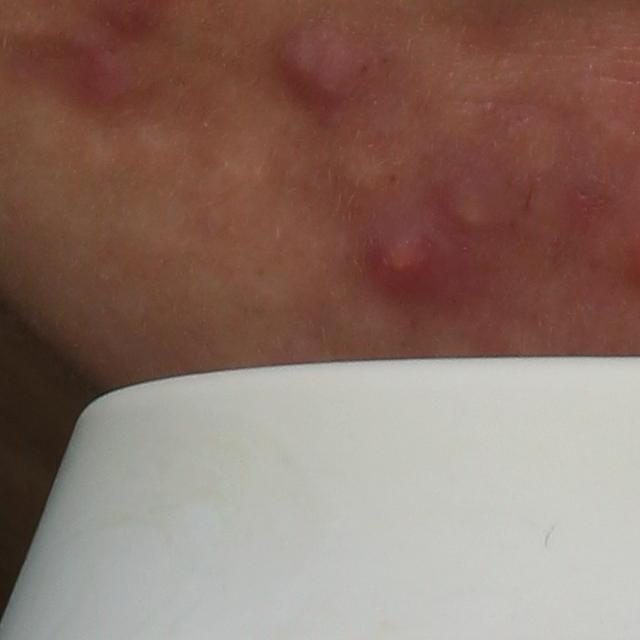papule: (274, 17, 368, 115), (497, 102, 561, 187), (369, 227, 440, 291), (71, 43, 143, 106), (437, 174, 495, 232)
